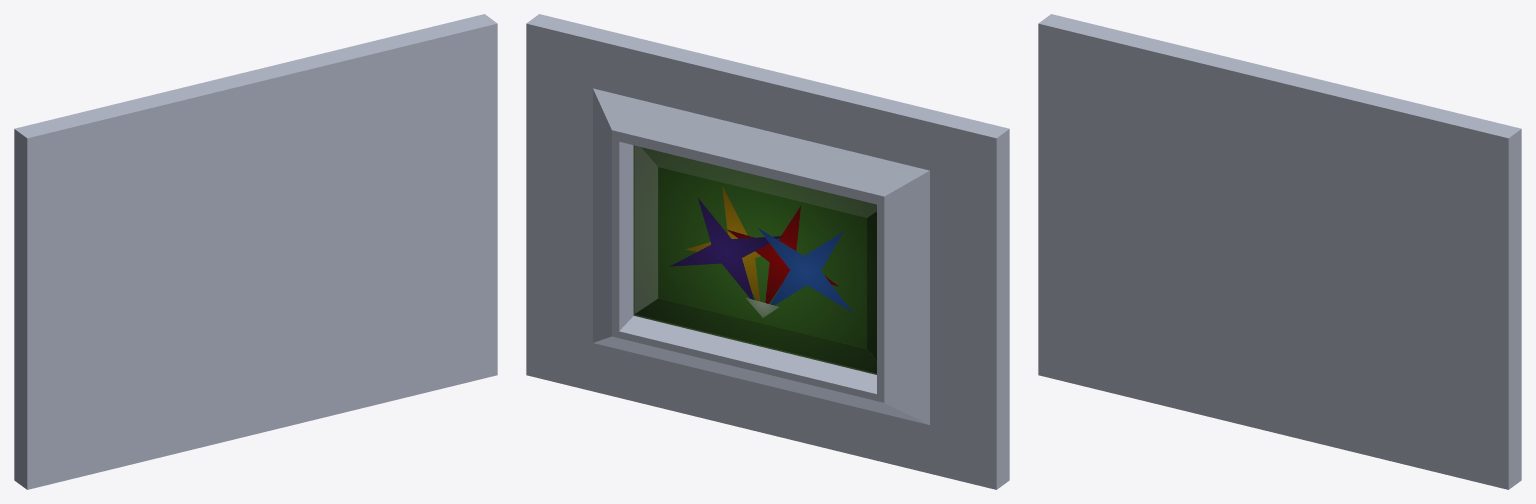
The model's file is IDLT_Art.fbx.
3 views of the same model, side by side, from view 1: azimuth 30°, elevation 25°; view 2: azimuth 150°, elevation 25°; view 3: azimuth 330°, elevation 25° (orthographic).
Visible parts, largest first — view 1: IDLT; view 2: IDLT, Image.003; view 3: IDLT.
Part boxes in pixels (<box>): IDLT: <box>14,14,497,489</box>; IDLT: <box>526,14,1009,489</box>; Image.003: <box>633,145,876,374</box>; IDLT: <box>1038,14,1521,489</box>.
Bounding box in the file's own units: 1349 × 963 × 131.
Materials: 2 (1 with a texture image).
